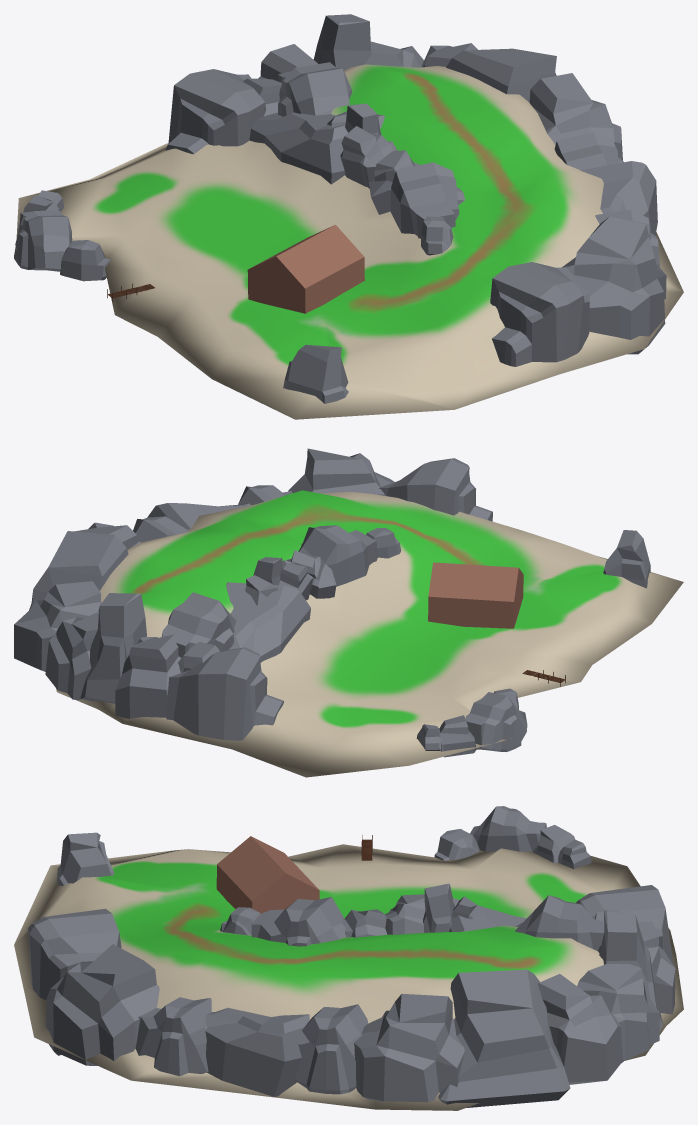
The model's file is tropical-island.glb.
3 renders of one model, top to bottom at view 1: azimuth 30°, elevation 25°; view 2: azimuth 150°, elevation 25°; view 3: azimuth 270°, elevation 25°, orthographic. The views are drawn at different scales.
Parts seen in each view (by area): view 1: Island, Rock_7_Cube.002, Rock_6_Cube.001, House, Rock_6_Cube.002, Rock_1_Cube.003, Rock_7_Cube.007, Rock_4_Cube.003, Rock_3_Cube.004, Rock_4_Cube.001, Rock_1_Cube.004, Rock_4_Cube.002 (+13 smaller); view 2: Island, Rock_6_Cube.002, House, Rock_1_Cube.002, Rock_1_Cube.003, Rock_7_Cube.001, Rock_7_Cube.006, Rock_6_Cube.001, Rock_3_Cube.004, Rock_7_Cube.005, Rock_7_Cube.002, Rock_4_Cube.003 (+15 smaller); view 3: Island, Rock_3_Cube.004, Rock_7_Cube.007, Rock_7_Cube.002, Rock_1_Cube.004, Rock_7_Cube.006, House, Rock_6_Cube.001, Rock_4_Cube.004, Rock_4_Cube.005, Rock_7_Cube.005, Rock_4_Cube.003 (+15 smaller).
Part boxes in pixels (box(x1,y1,x2,y2)): Island: box(16, 64, 683, 419); Rock_7_Cube.002: box(561, 216, 666, 354); Rock_6_Cube.001: box(490, 262, 589, 366); House: box(247, 224, 364, 313); Rock_6_Cube.002: box(165, 69, 265, 154); Rock_1_Cube.003: box(249, 112, 384, 184); Rock_7_Cube.007: box(529, 73, 622, 160); Rock_4_Cube.003: box(390, 162, 465, 238); Rock_3_Cube.004: box(446, 48, 556, 102); Rock_4_Cube.001: box(278, 62, 351, 116); Rock_1_Cube.004: box(580, 161, 657, 235); Rock_4_Cube.002: box(14, 210, 72, 271); Island: box(56, 490, 683, 777); Rock_6_Cube.002: box(166, 647, 283, 740); House: box(428, 562, 523, 628); Rock_1_Cube.002: box(80, 593, 146, 703); Rock_1_Cube.003: box(226, 582, 310, 662); Rock_7_Cube.001: box(115, 634, 181, 718); Rock_7_Cube.006: box(14, 581, 101, 671); Rock_6_Cube.001: box(378, 458, 492, 521); Rock_3_Cube.004: box(29, 531, 128, 610); Rock_7_Cube.005: box(45, 611, 98, 699); Rock_7_Cube.002: box(288, 448, 394, 495); Rock_4_Cube.003: box(298, 525, 377, 586); Island: box(14, 844, 683, 1110); Rock_3_Cube.004: box(438, 969, 570, 1107); Rock_7_Cube.007: box(354, 993, 464, 1102); Rock_7_Cube.002: box(46, 944, 159, 1065); Rock_1_Cube.004: box(205, 1007, 309, 1096); Rock_7_Cube.006: box(537, 974, 623, 1084); House: box(216, 836, 319, 913); Rock_6_Cube.001: box(28, 908, 121, 1000); Rock_4_Cube.004: box(294, 1004, 368, 1094); Rock_4_Cube.005: box(135, 997, 211, 1076); Rock_7_Cube.005: box(577, 963, 659, 1063); Rock_4_Cube.003: box(251, 897, 346, 946).
Size of the model in its own units: 88.05 by 22.69 by 93.49.
10 materials, 3 textured.
